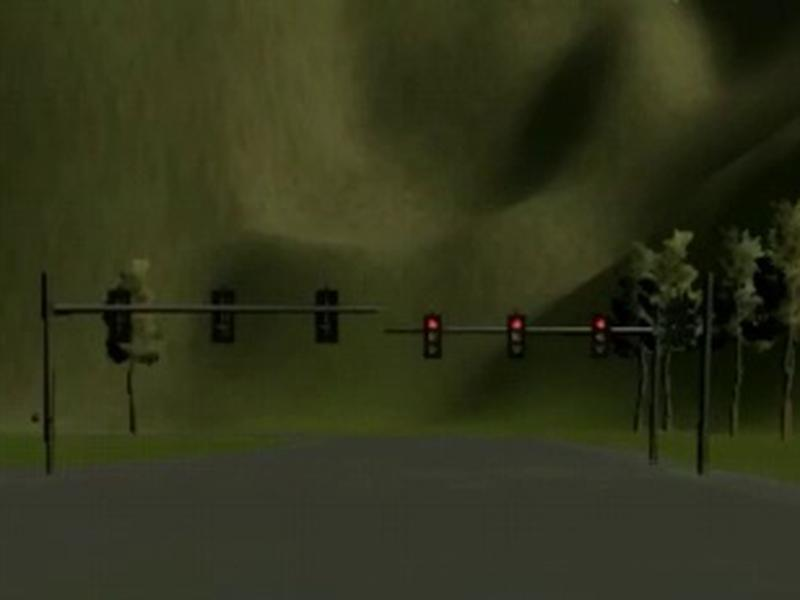Red: (422, 313, 442, 358), (592, 312, 611, 358), (507, 312, 525, 358)
